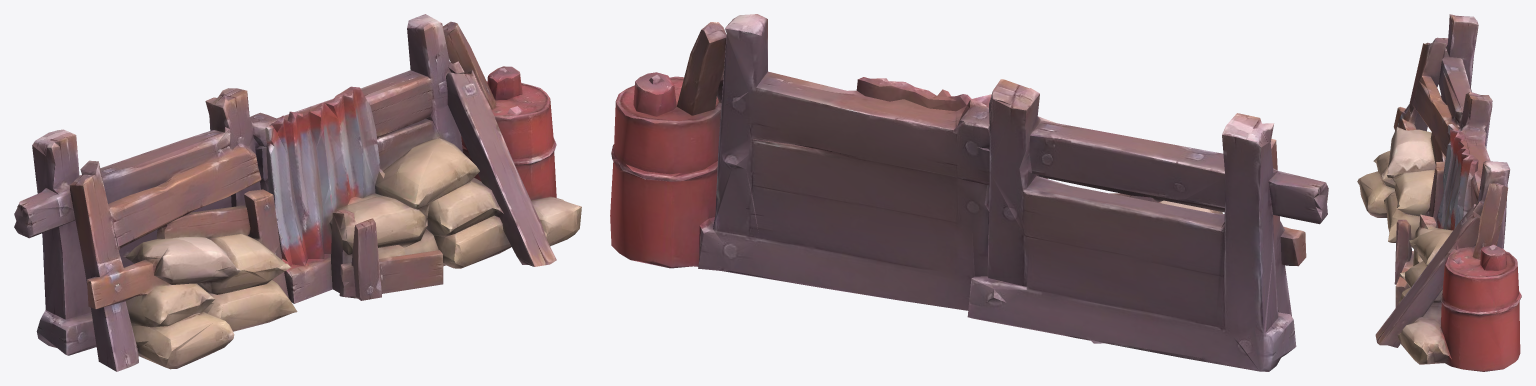
File: barricade.glb
3 views of the same model, side by side, from view 1: azimuth 30°, elevation 25°; view 2: azimuth 150°, elevation 25°; view 3: azimuth 270°, elevation 25° (orthographic). The views are drawn at different scales.
Visible parts, largest first — view 1: body; view 2: body; view 3: body.
Part boxes in pixels (x1,y1,x2,y2): body: (14,14,581,371); body: (610,14,1328,371); body: (1357,14,1521,371).
Size of the model in its own units: 2.76 by 0.9974 by 0.8909.
1 material, 1 textured.
